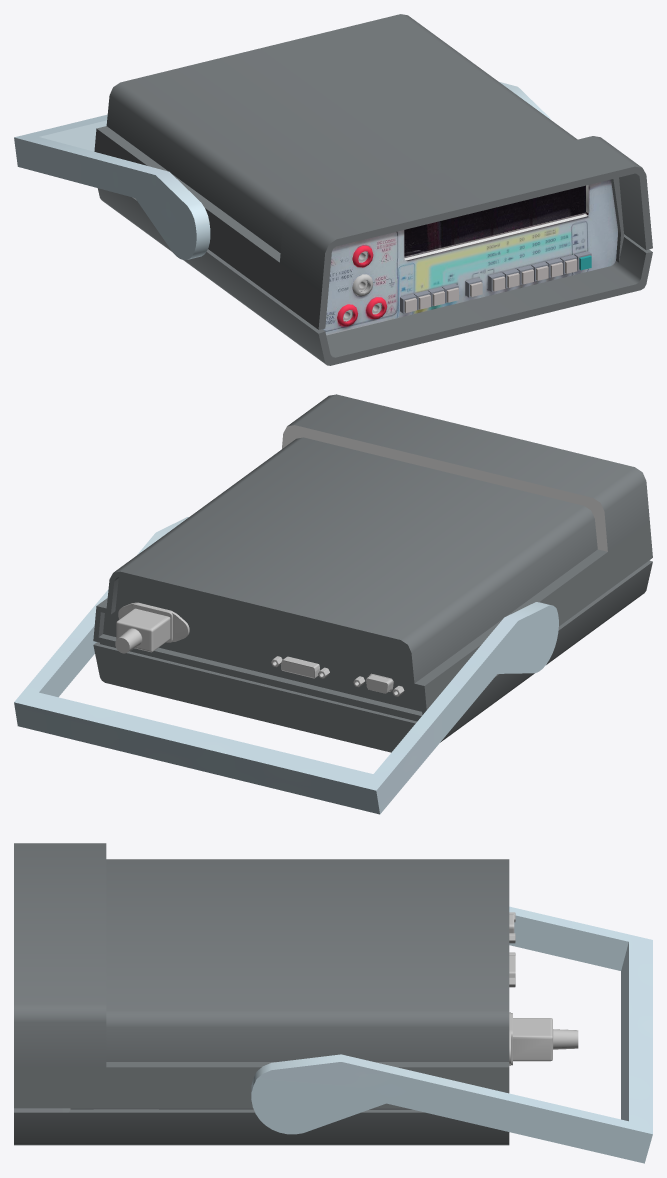
The model's file is GDM-8135.fbx.
3 views of the same model, one above another, from view 1: azimuth 30°, elevation 25°; view 2: azimuth 150°, elevation 25°; view 3: azimuth 270°, elevation 25° (orthographic). The views are drawn at different scales.
Visible parts, largest first — view 1: Cube, Cylinder.002, Cube.005, Cube.002, Cylinder.003; view 2: Cube, Cylinder.002, LaCie324+Hood.001; view 3: Cube, Cylinder.002, LaCie324+Hood.001.
Part boxes in pixels (x1,y1,x2,y2): Cube: (94,14,652,365); Cylinder.002: (14,82,550,260); Cube.005: (404,255,591,312); Cube.002: (400,251,591,313); Cylinder.003: (337,245,387,326); Cube: (93,394,652,752); Cylinder.002: (14,517,558,814); LaCie324+Hood.001: (115,602,404,696); Cube: (14,843,509,1145); Cylinder.002: (251,906,652,1163); LaCie324+Hood.001: (509,912,578,1065).
Bounding box in the file's own units: 260 × 97.25 × 361.
